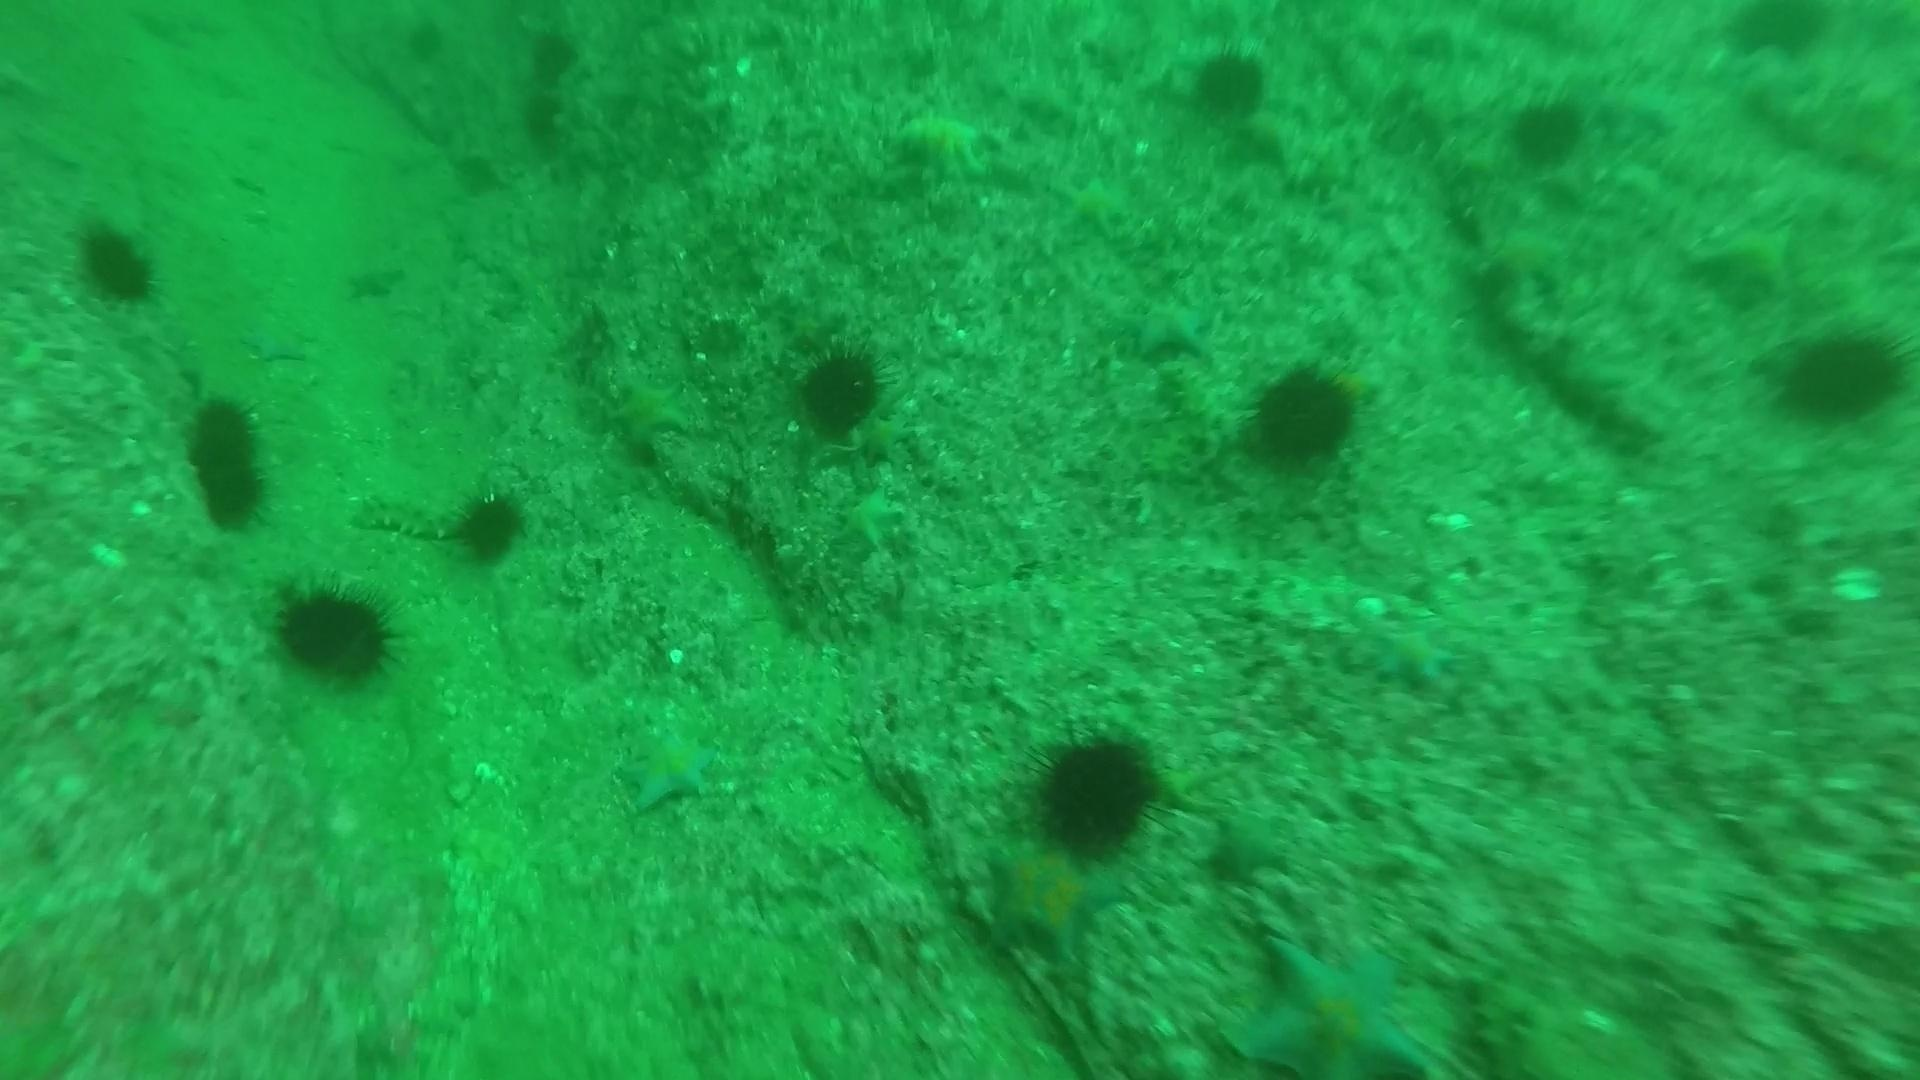echinus: (1025, 724, 1170, 858), (1764, 319, 1913, 429), (268, 575, 404, 690), (177, 392, 277, 535), (1241, 357, 1364, 472), (789, 338, 891, 443), (69, 216, 164, 310), (1182, 44, 1275, 125), (1720, 1, 1838, 65), (1501, 91, 1592, 173), (444, 484, 531, 568), (521, 25, 584, 90), (524, 91, 571, 142), (401, 13, 448, 65)
holothurian: (348, 487, 471, 546)
starfish: (1218, 930, 1437, 1080), (976, 833, 1131, 967), (1683, 207, 1803, 307), (611, 720, 725, 815), (884, 102, 1001, 187), (597, 363, 702, 454), (1472, 214, 1576, 303), (1197, 796, 1299, 887), (1358, 615, 1466, 694), (1112, 287, 1220, 365), (1054, 165, 1139, 240), (836, 481, 910, 558), (239, 309, 316, 367), (843, 410, 916, 471), (343, 257, 407, 303)
